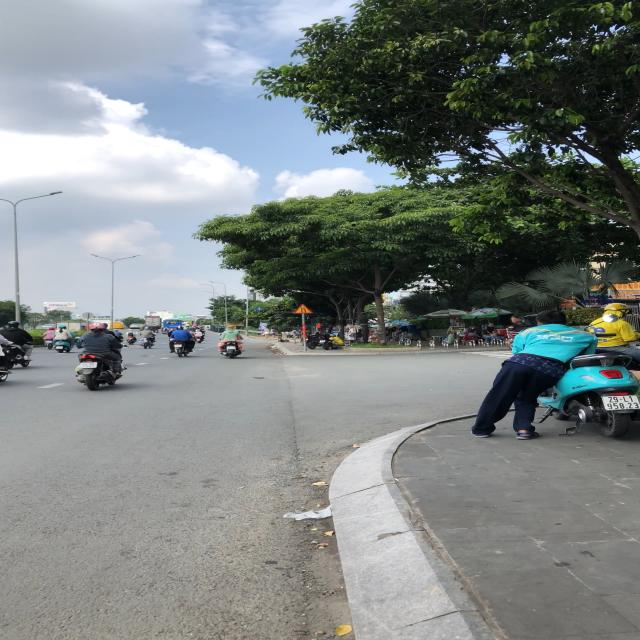Bien bao duong bi thu hep: (292, 303, 313, 314)
